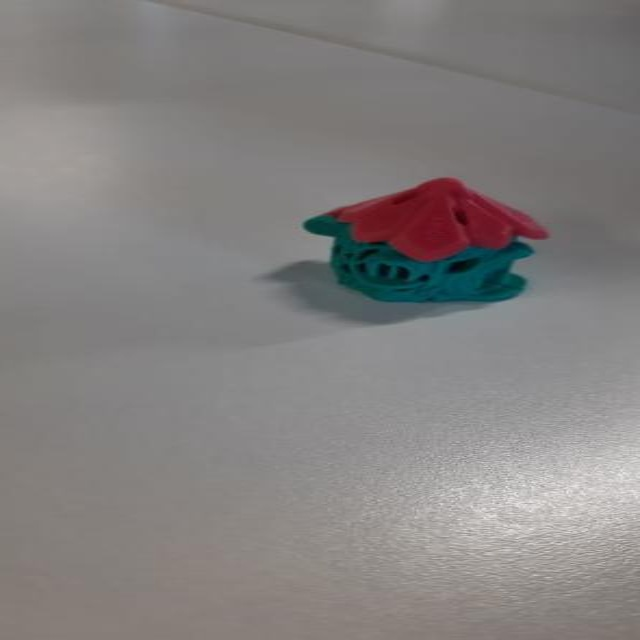House: (297, 172, 545, 320)
